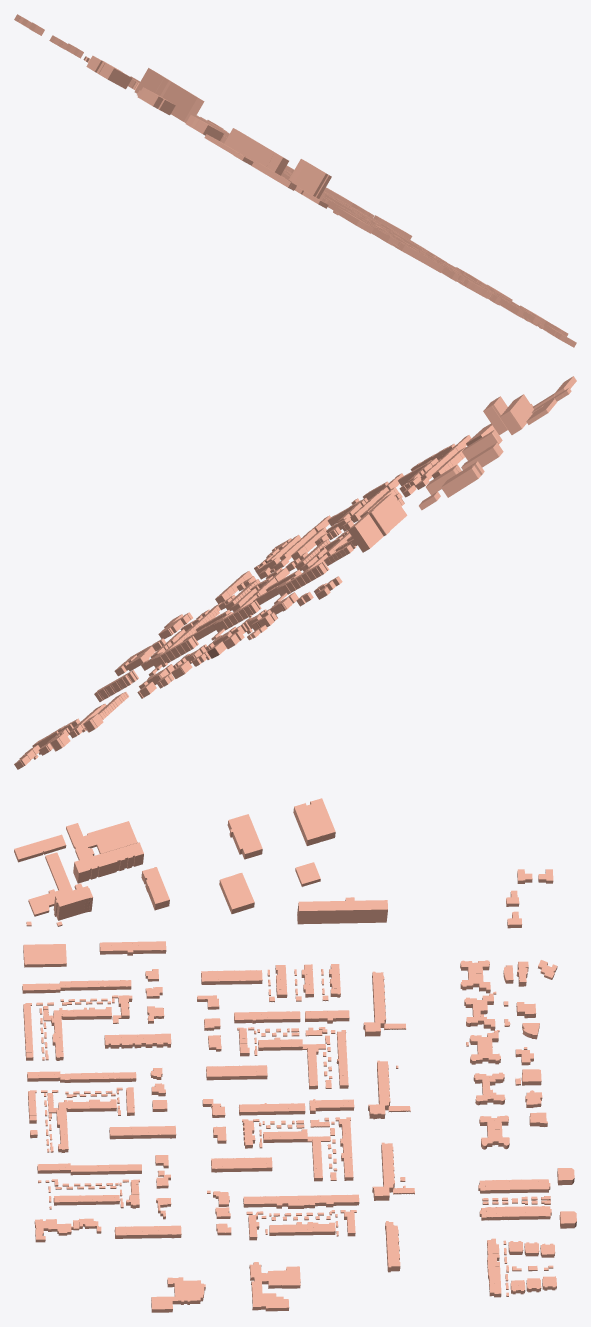
3 views of the same model, one above another, from view 1: azimuth 30°, elevation 25°; view 2: azimuth 150°, elevation 25°; view 3: azimuth 270°, elevation 25° (orthographic). The views are drawn at different scales.
Size of the model in its own units: 513 by 393 by 618.
